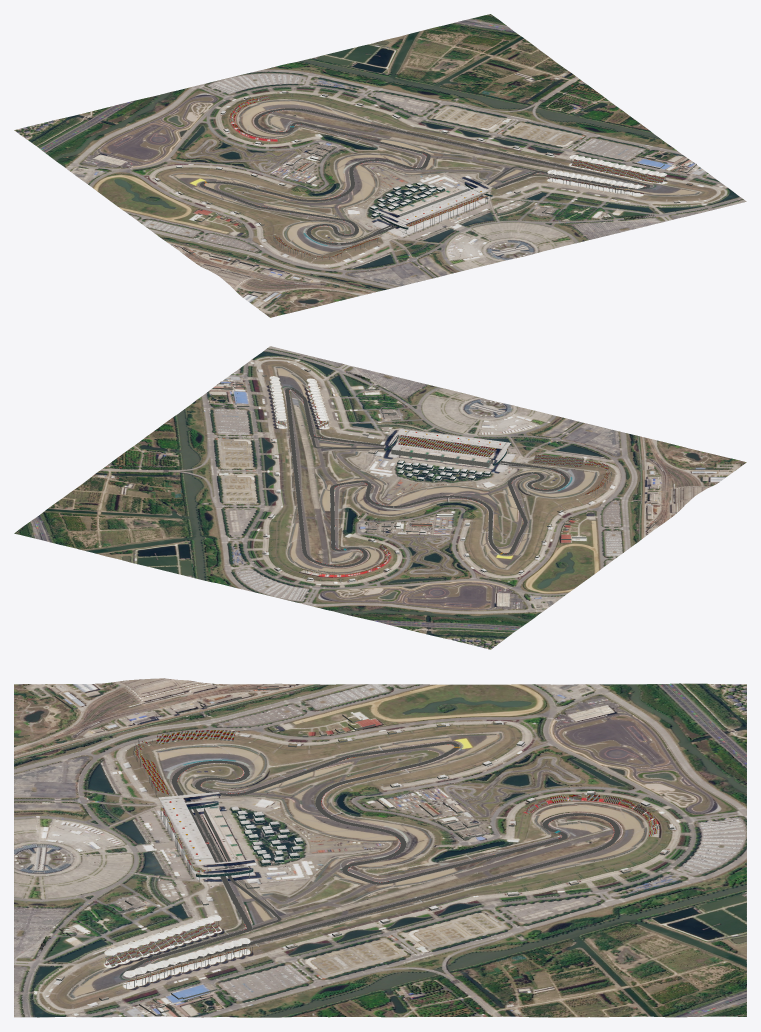
Rendered from shanghai.glb.
3 views of the same model, one above another, from view 1: azimuth 30°, elevation 25°; view 2: azimuth 150°, elevation 25°; view 3: azimuth 270°, elevation 25° (orthographic). The views are drawn at different scales.
Visible parts, largest first — view 1: Shanghai_Terrain, Shanghai_Raceway, Shanghai_Source_Roofs, Shanghai_Grandstands, Shanghai_Buildings, Shanghai_Textured_Seat_Rows, Shanghai_Main_Grandstand_Roof, Shanghai_Lotus_Canopies; view 2: Shanghai_Terrain, Shanghai_Raceway, Shanghai_Source_Roofs, Shanghai_Grandstands, Shanghai_Buildings, Shanghai_Textured_Seat_Rows, Shanghai_Main_Grandstand_Roof, Shanghai_Lotus_Canopies; view 3: Shanghai_Terrain, Shanghai_Raceway, Shanghai_Source_Roofs, Shanghai_Grandstands, Shanghai_Textured_Seat_Rows, Shanghai_Main_Grandstand_Roof, Shanghai_Buildings, Shanghai_Lotus_Canopies, Shanghai_Pit_Lane.
Part boxes in pixels (<box>): Shanghai_Terrain: <box>14,14,746,317</box>; Shanghai_Raceway: <box>200,108,650,244</box>; Shanghai_Source_Roofs: <box>155,90,696,301</box>; Shanghai_Grandstands: <box>229,95,666,259</box>; Shanghai_Buildings: <box>154,92,696,302</box>; Shanghai_Textured_Seat_Rows: <box>229,95,666,258</box>; Shanghai_Main_Grandstand_Roof: <box>376,175,496,227</box>; Shanghai_Lotus_Canopies: <box>547,155,667,188</box>; Shanghai_Terrain: <box>14,346,746,649</box>; Shanghai_Raceway: <box>285,388,568,567</box>; Shanghai_Source_Roofs: <box>212,368,713,580</box>; Shanghai_Grandstands: <box>269,381,611,576</box>; Shanghai_Buildings: <box>212,369,713,581</box>; Shanghai_Textured_Seat_Rows: <box>273,386,609,574</box>; Shanghai_Main_Grandstand_Roof: <box>380,426,510,463</box>; Shanghai_Lotus_Canopies: <box>269,376,330,420</box>; Shanghai_Terrain: <box>14,678,746,1017</box>; Shanghai_Raceway: <box>123,742,620,976</box>; Shanghai_Source_Roofs: <box>55,685,673,1014</box>; Shanghai_Grandstands: <box>105,730,657,989</box>; Shanghai_Textured_Seat_Rows: <box>105,730,656,984</box>; Shanghai_Main_Grandstand_Roof: <box>158,792,256,874</box>; Shanghai_Buildings: <box>55,686,674,1016</box>; Shanghai_Lotus_Canopies: <box>104,915,250,977</box>; Shanghai_Pit_Lane: <box>175,785,281,929</box>.
Size of the model in its own units: 1740 by 42.99 by 1620.
Materials: 16 (10 with a texture image).
